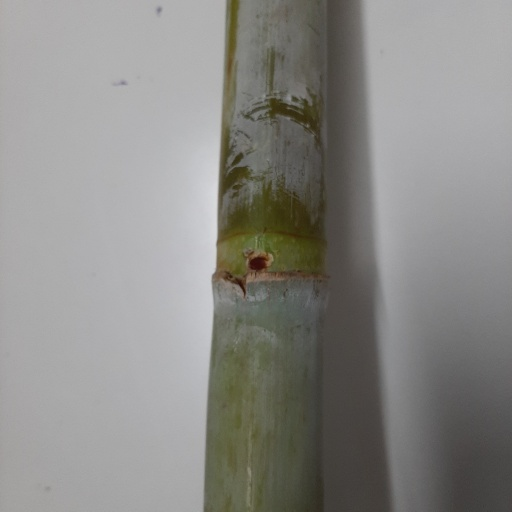Damage_Bud: (246, 252, 274, 271)
